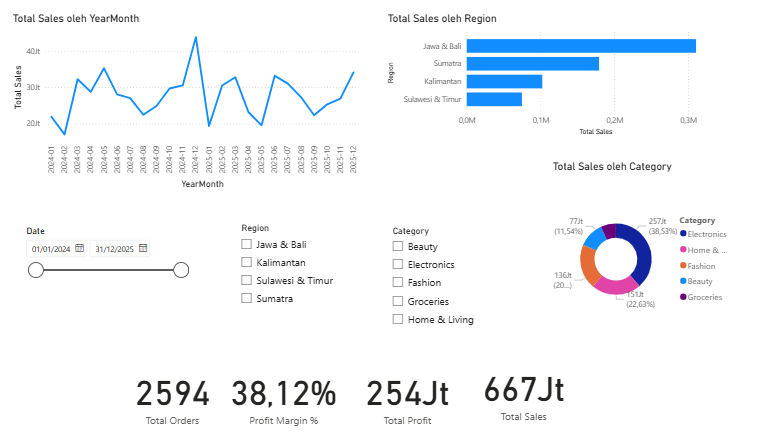

The page's visual inventory and layout, read from the dashboard file:
{"tool":"powerbi","page":{"name":"Overview","canvas":[1280,720],"ordinal":0},"visuals":[{"type":"card","fields":{"Values":["Sales.Total Sales"]},"box":[750,544,186,176],"z":0},{"type":"card","fields":{"Values":["Sales.Total Profit"]},"box":[564,556,186,164],"z":1000},{"type":"card","fields":{"Values":["Sales.Profit Margin %"]},"box":[356,556,206,164],"z":2000},{"type":"card","fields":{"Values":["Sales.Total Orders"]},"box":[206,556,150,164],"z":3000},{"type":"lineChart","fields":{"Category":["Date.YearMonth"],"Y":["Sales.Total Sales"]},"box":[20,24,564,288],"z":3001},{"type":"donutChart","fields":{"Category":["Products.Category"],"Y":["Sales.Total Sales"]},"box":[884,260,300,300],"z":3002},{"type":"clusteredBarChart","fields":{"Category":["Customers.Region"],"Y":["Sales.Total Sales"]},"box":[620,24,564,202],"z":3003},{"type":"slicer","fields":{"Values":["Date.Date"]},"box":[34,360,282,200],"z":3004},{"type":"slicer","fields":{"Values":["Products.Category"]},"box":[620,360,186,200],"z":3005},{"type":"slicer","fields":{"Values":["Customers.Region"]},"box":[378,356,186,200],"z":3006}]}

Visuals, with their boxes in screenshot pixels (x1, y1, x2, y2), scaled from the page's 1280x720 canvas onto the 781x432 screenshot:
card - Sales.Total Sales: (left=458, top=326, right=571, bottom=431)
card - Sales.Total Profit: (left=344, top=334, right=458, bottom=431)
card - Sales.Profit Margin %: (left=217, top=334, right=343, bottom=431)
card - Sales.Total Orders: (left=126, top=334, right=217, bottom=431)
lineChart - Date.YearMonth x Sales.Total Sales: (left=12, top=14, right=356, bottom=187)
donutChart - Products.Category x Sales.Total Sales: (left=539, top=156, right=722, bottom=336)
clusteredBarChart - Customers.Region x Sales.Total Sales: (left=378, top=14, right=722, bottom=136)
slicer - Date.Date: (left=21, top=216, right=193, bottom=336)
slicer - Products.Category: (left=378, top=216, right=492, bottom=336)
slicer - Customers.Region: (left=231, top=214, right=344, bottom=334)
